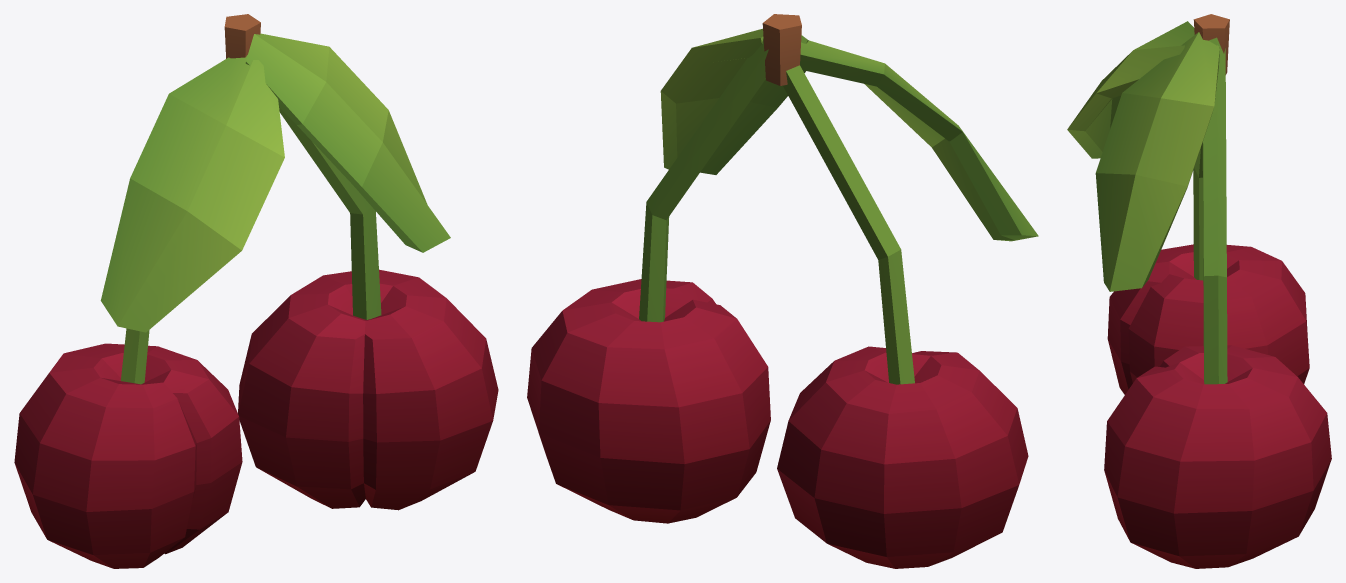
File: Cherry.fbx
The picture shows the model from 3 angles, left to right: view 1: azimuth 30°, elevation 25°; view 2: azimuth 150°, elevation 25°; view 3: azimuth 270°, elevation 25°; orthographic projection. The views are drawn at different scales.
Visible parts, largest first — view 1: Cherry; view 2: Cherry; view 3: Cherry.
Part boxes in pixels (x1=…): Cherry: x1=14, y1=14, x2=498, y2=568; Cherry: x1=527, y1=14, x2=1038, y2=568; Cherry: x1=1067, y1=14, x2=1331, y2=568.
Bounding box in the file's own units: 13.04 × 13.67 × 7.
